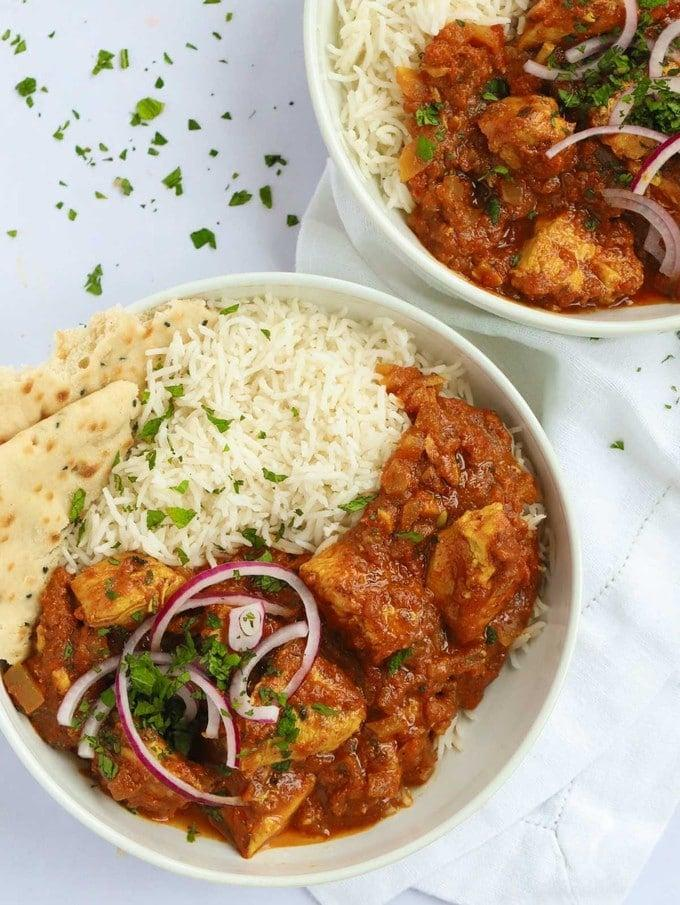chicken: (10, 384, 548, 830), (425, 4, 680, 307)
rice: (125, 286, 382, 539), (335, 1, 410, 212)
roti: (8, 346, 110, 602)
